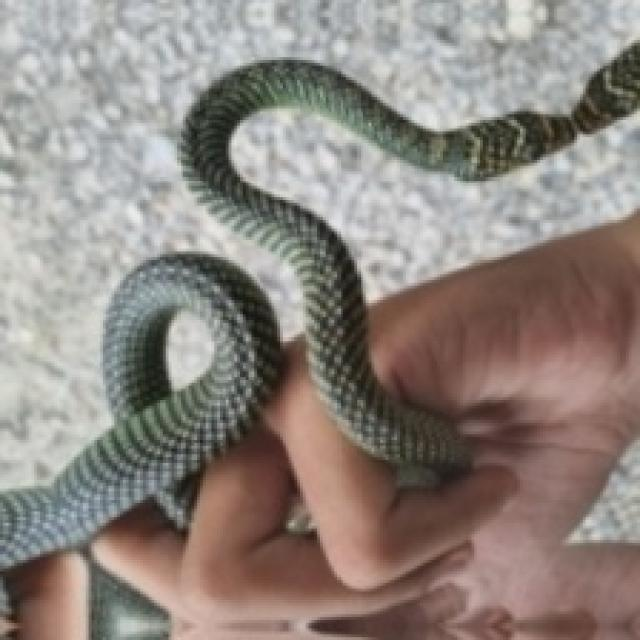paradise tree snake: (0, 0, 637, 486), (234, 111, 637, 300), (414, 560, 637, 637)
